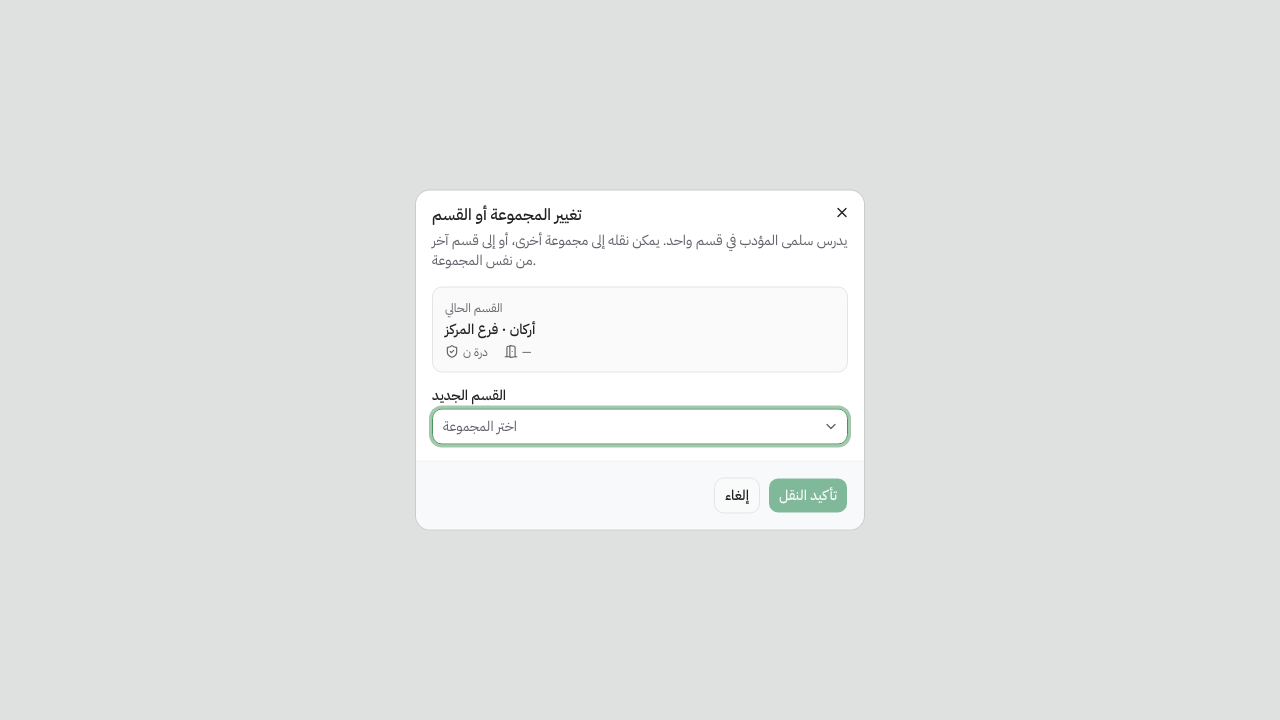
Scenario: «تغيير المجموعة» — financial transfer › a group without an active fee: explained, and the move cannot be confirmed
Click the dropdown at {"x": 480, "y": 426}, box [432,408,848,444]
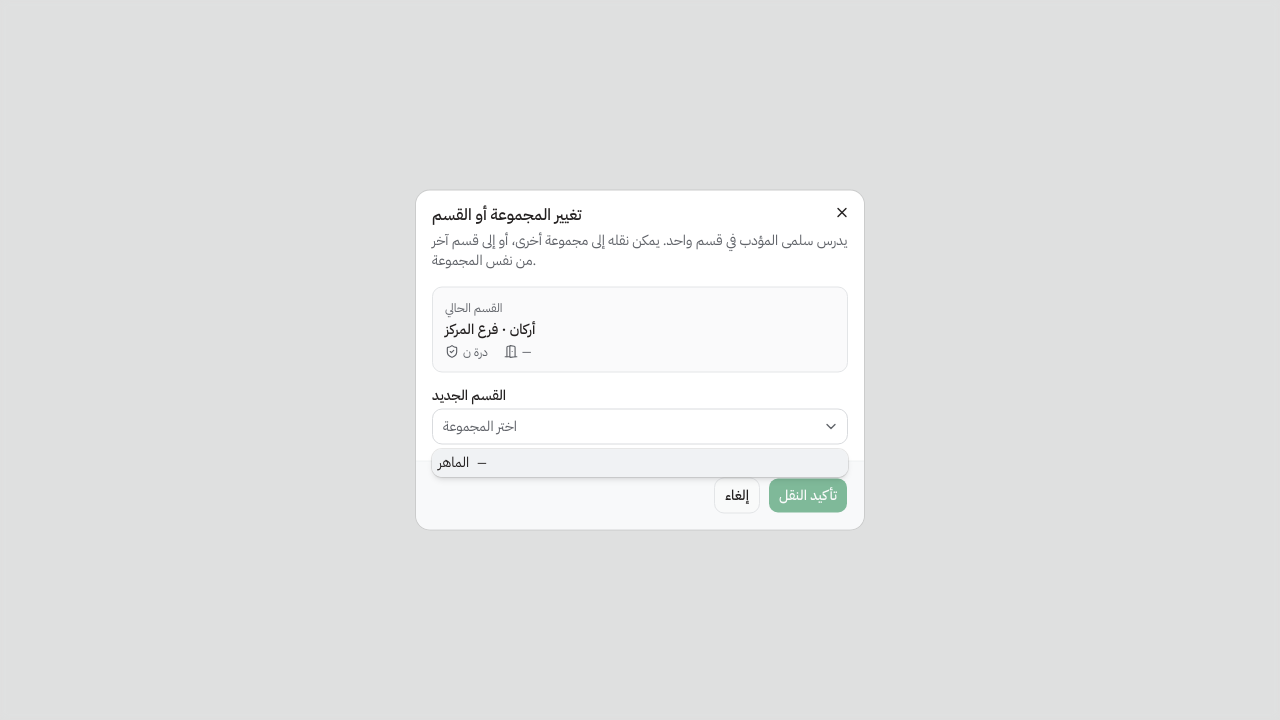
Click the option "الماهر —" at {"x": 454, "y": 462}, box [432,449,848,477]
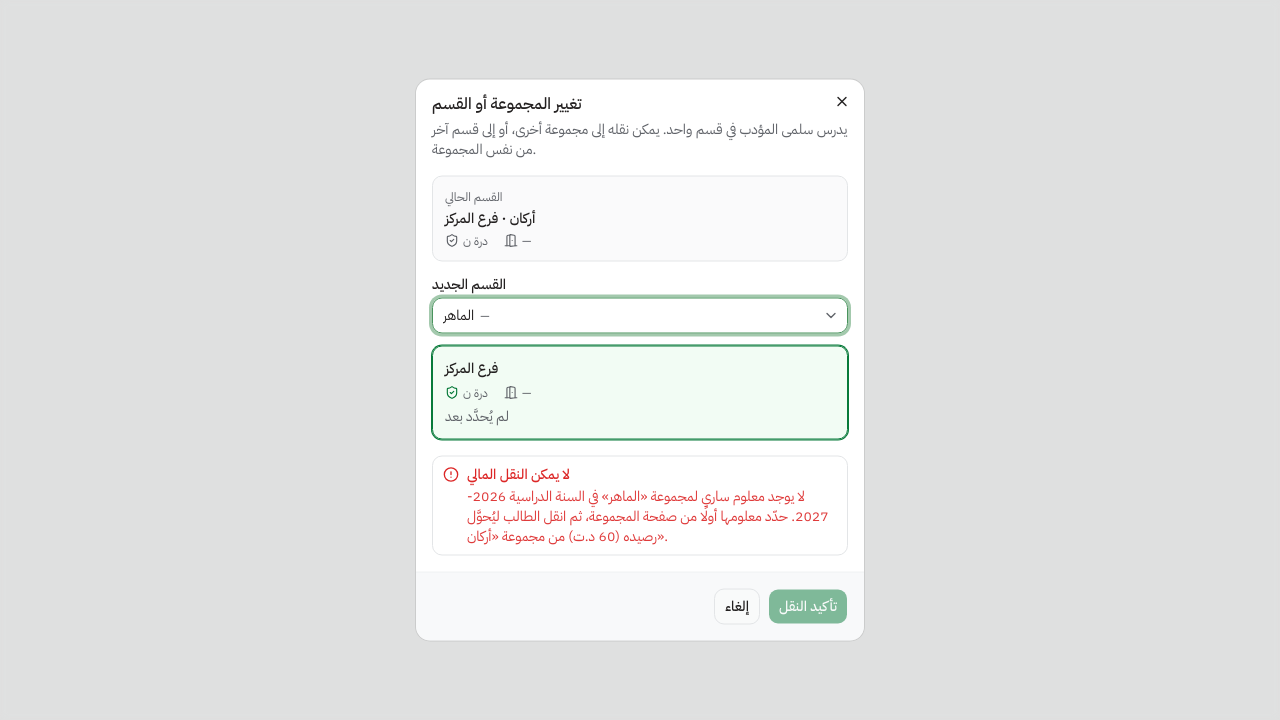
Check: the button "تأكيد النقل" is disabled, box [768,588,848,624]
Check: the text "لا يوجد معلوم ساري لمجموعة «الماهر»" is shown, box [467,486,829,546]
